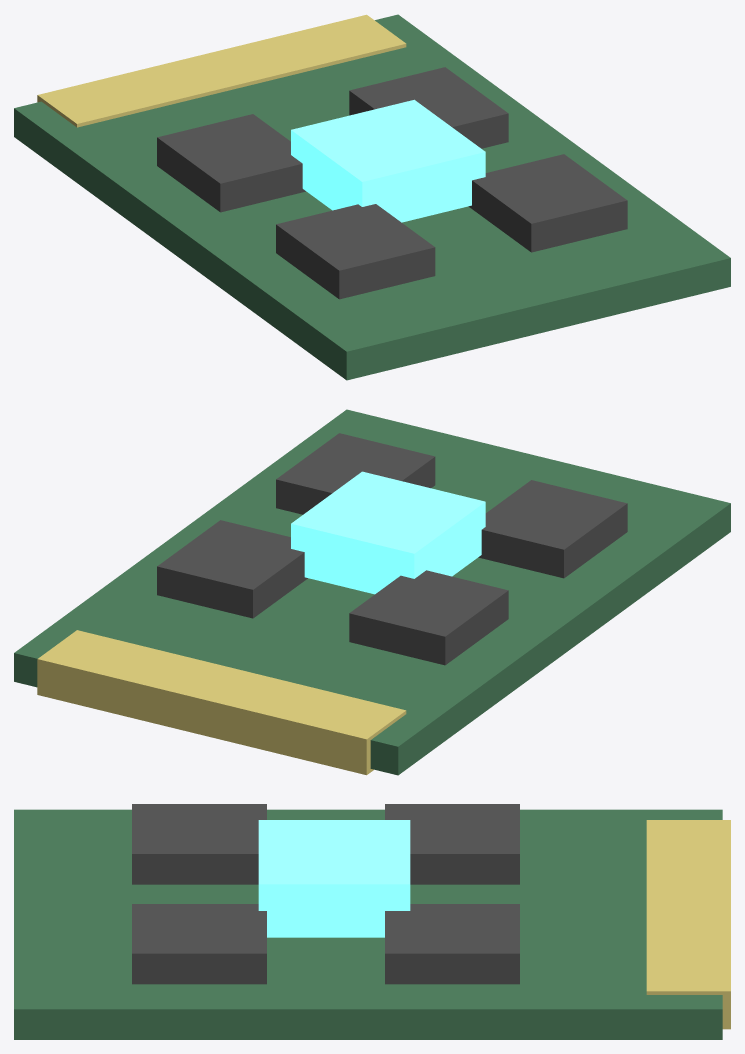
File: memory_core_pickup.glb
The picture shows the model from 3 angles, top to bottom: view 1: azimuth 30°, elevation 25°; view 2: azimuth 150°, elevation 25°; view 3: azimuth 270°, elevation 25°; orthographic projection. The views are drawn at different scales.
Visible parts, largest first — view 1: MemoryCore; view 2: MemoryCore; view 3: MemoryCore.
Part boxes in pixels (box(x1,y1,x2,y2)): MemoryCore: box(14, 14, 730, 380); MemoryCore: box(14, 409, 730, 775); MemoryCore: box(14, 804, 730, 1039).
Size of the model in its own units: 0.28 by 0.06 by 0.425.
